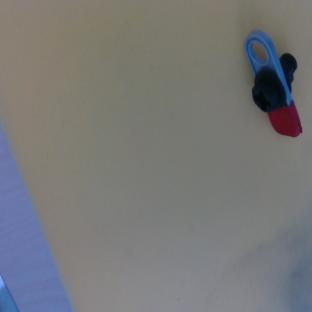part_1_good: (243, 27, 302, 140)
